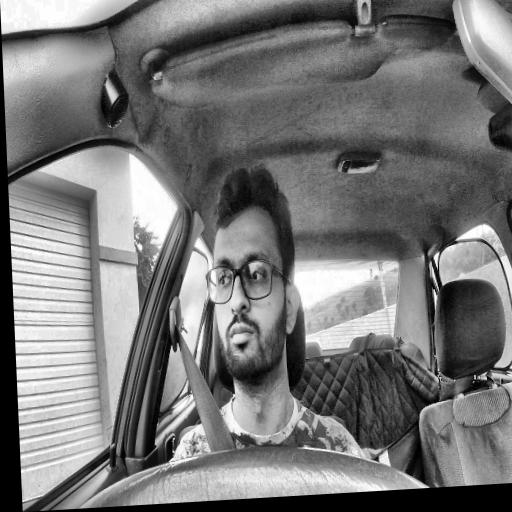awake: (200, 161, 305, 391)
